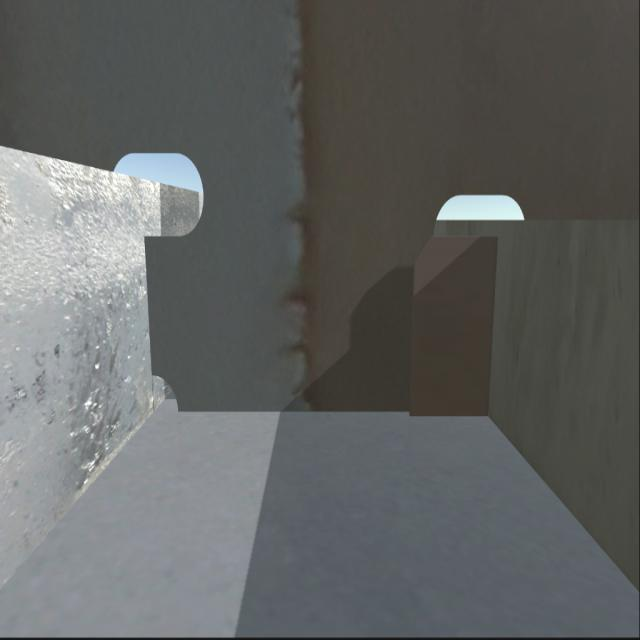fillet_hole: (148, 369, 185, 414)
fillet_yong_jeop_jang: (179, 400, 488, 419)
longi_yong_jeop_jang: (482, 240, 502, 410), (137, 231, 159, 377)
plate_CP03: (410, 240, 496, 413)
